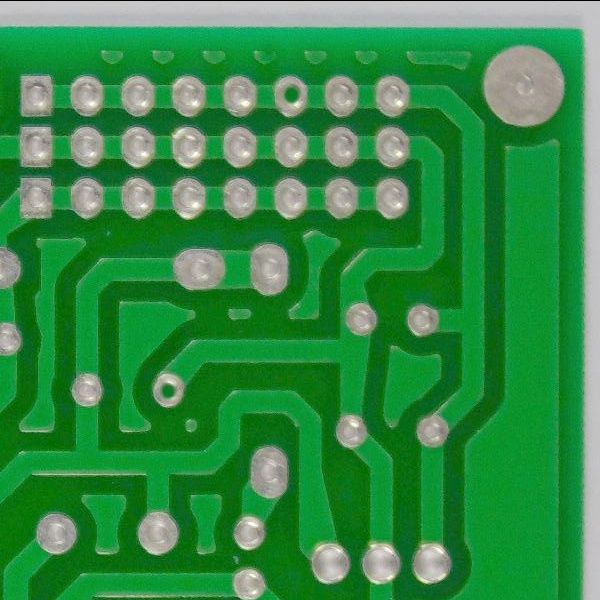missing_hole: (271, 78, 310, 112), (152, 372, 181, 407)
